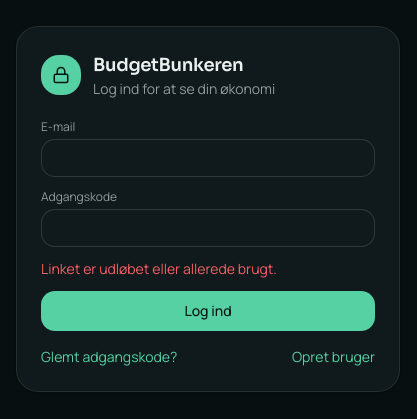
Forsiden: links fra mails og bank-login › udløbet link vises på login, og glemt adgangskode sender mail
This screenshot has width=417, height=419.
expect the text "Linket er udløbet eller allerede brugt." is shown: met, box left=41, top=259, right=277, bottom=278
In the field labelled "E-mail": (208, 158) left=41, top=139, right=375, bottom=177, type "me@example.com"
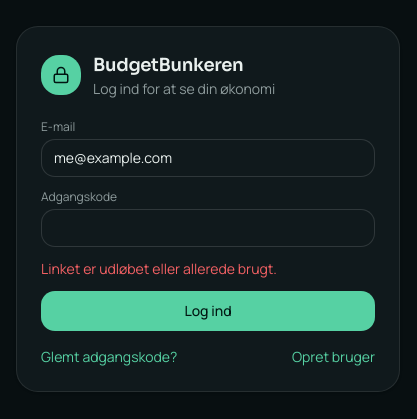
Click the button "Glemt adgangskode?": (109, 357) left=41, top=347, right=177, bottom=367
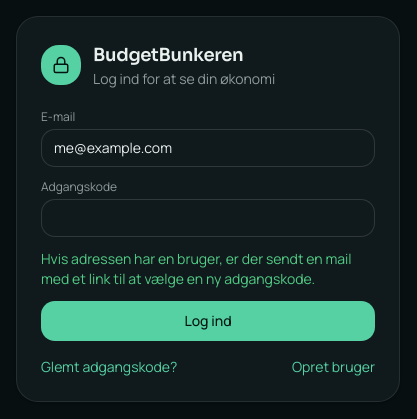
expect the text "sendt en mail" is shown: met, box left=41, top=249, right=352, bottom=288
